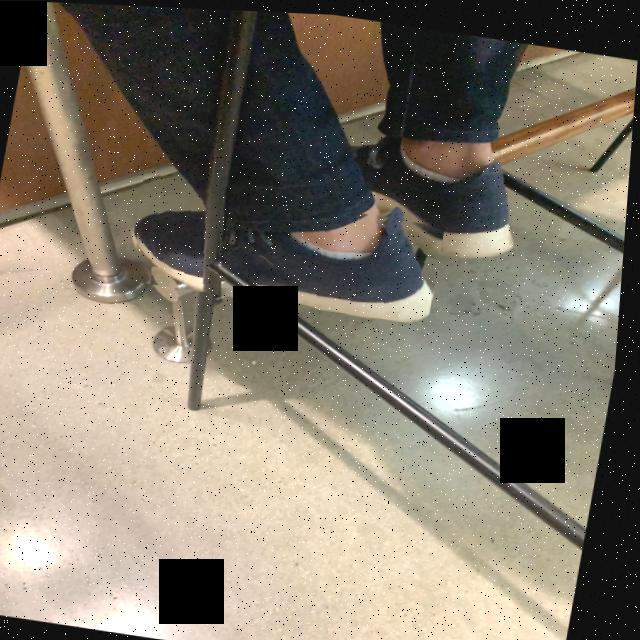shoe: (140, 203, 437, 318)
